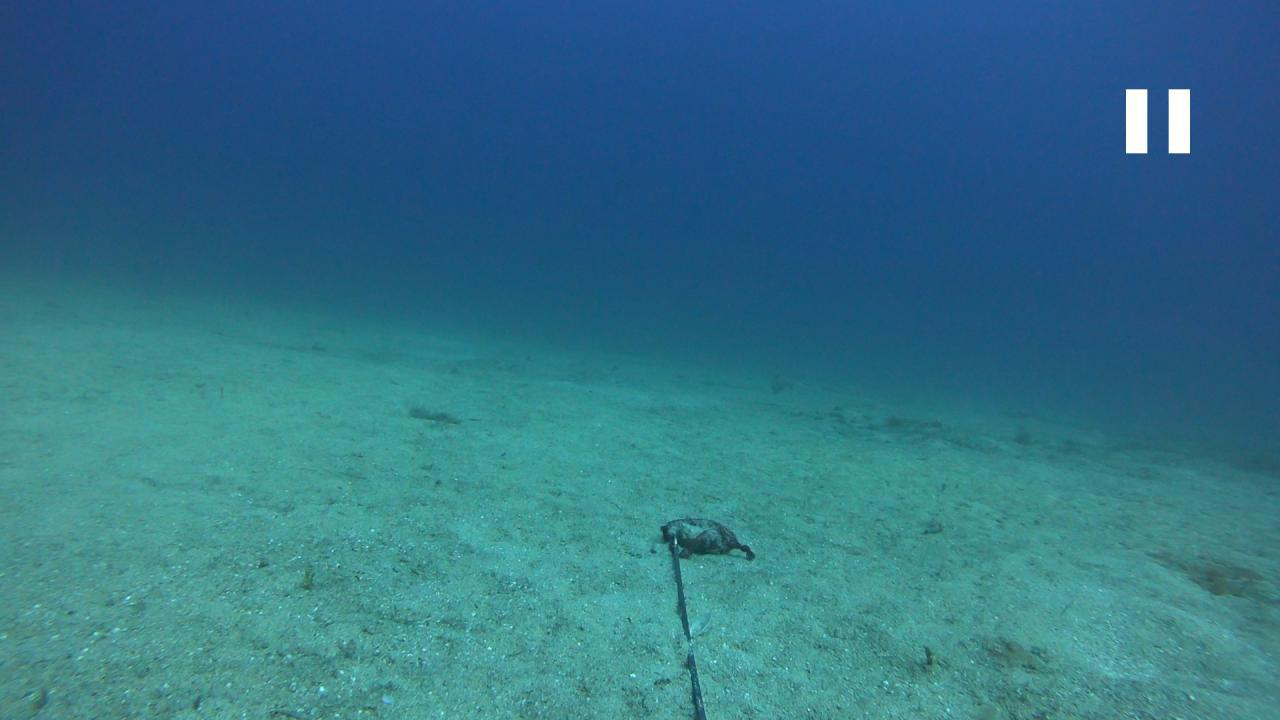dasyatis: (768, 369, 836, 398)
